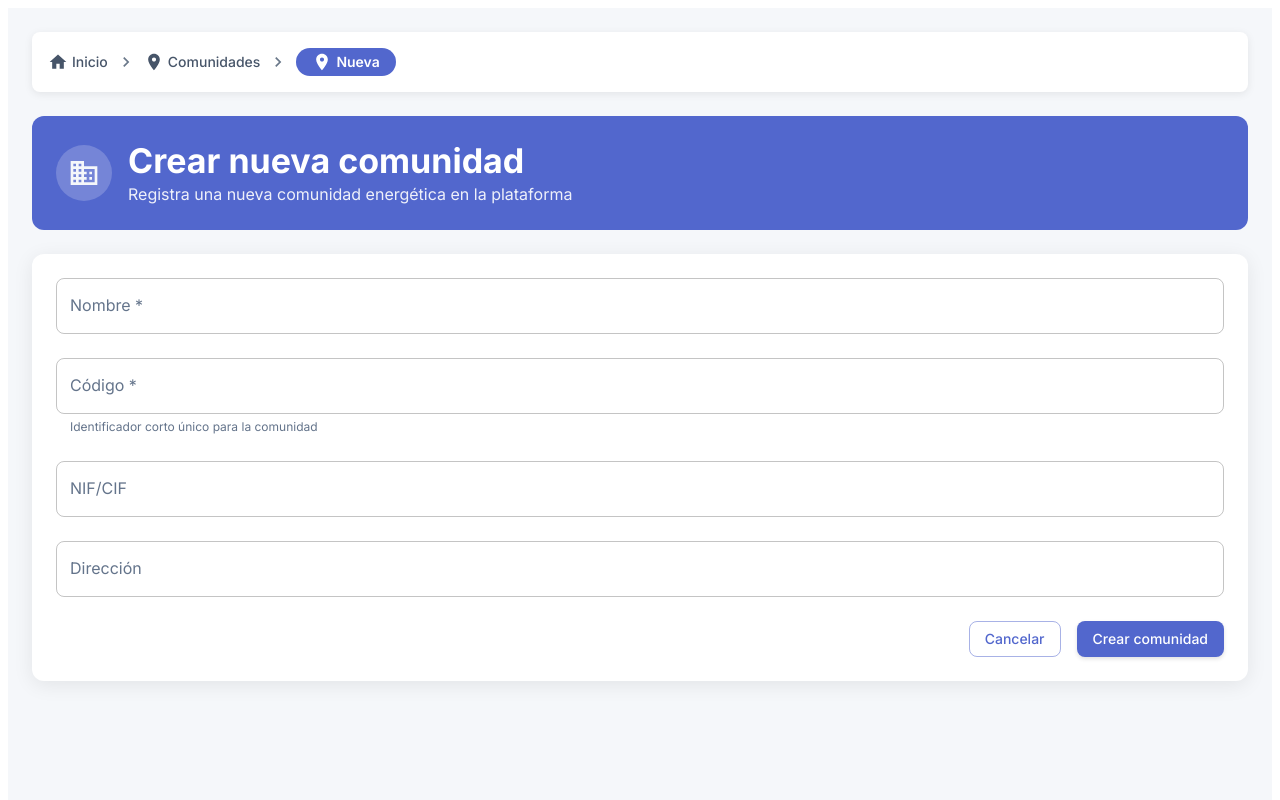
Test: CreateCommunityPage: a refused creation (#232) › UI-ERR-002 clears the API error once its input is edited, not when another input is
The image size is (1280, 800).
Type "Comunidad Norte" into the field labelled "Nombre *".
click(640, 306); type("Comunidad Norte")  # box [56,278,1224,334]
Type "NORTE" into the field labelled "Código *".
click(640, 386); type("NORTE")  # box [56,358,1224,414]
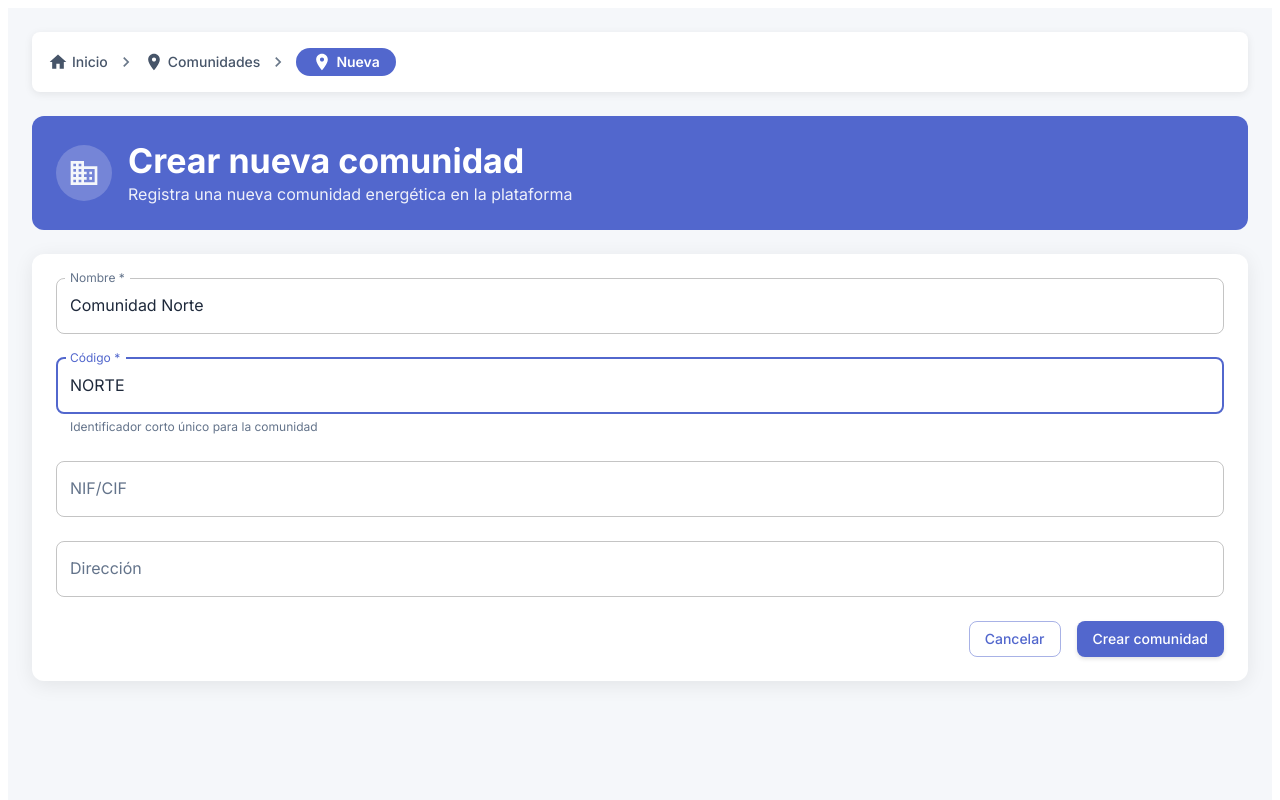
Type "G12345678" into the field labelled "NIF/CIF".
click(640, 489); type("G12345678")  # box [56,461,1224,517]
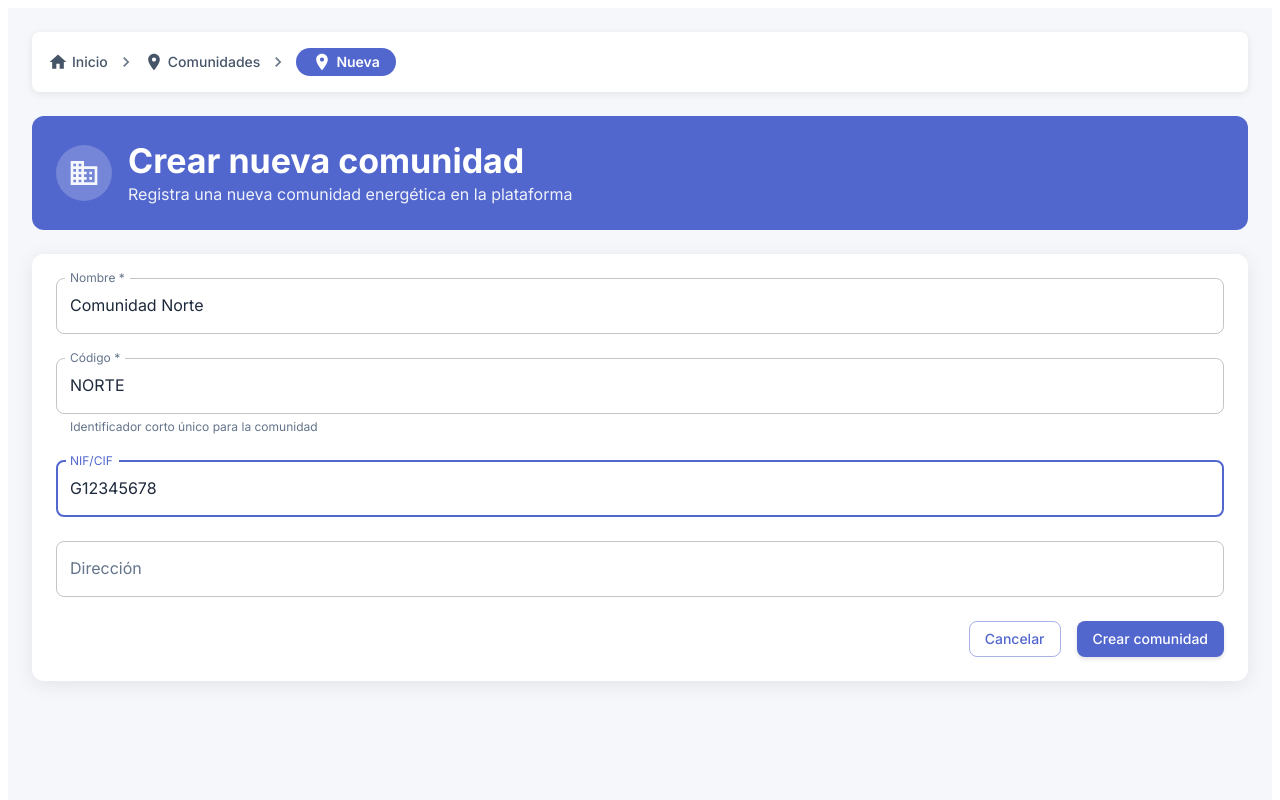
Type "Calle Mayor 1" into the field labelled "Dirección".
click(640, 569); type("Calle Mayor 1")  # box [56,541,1224,597]
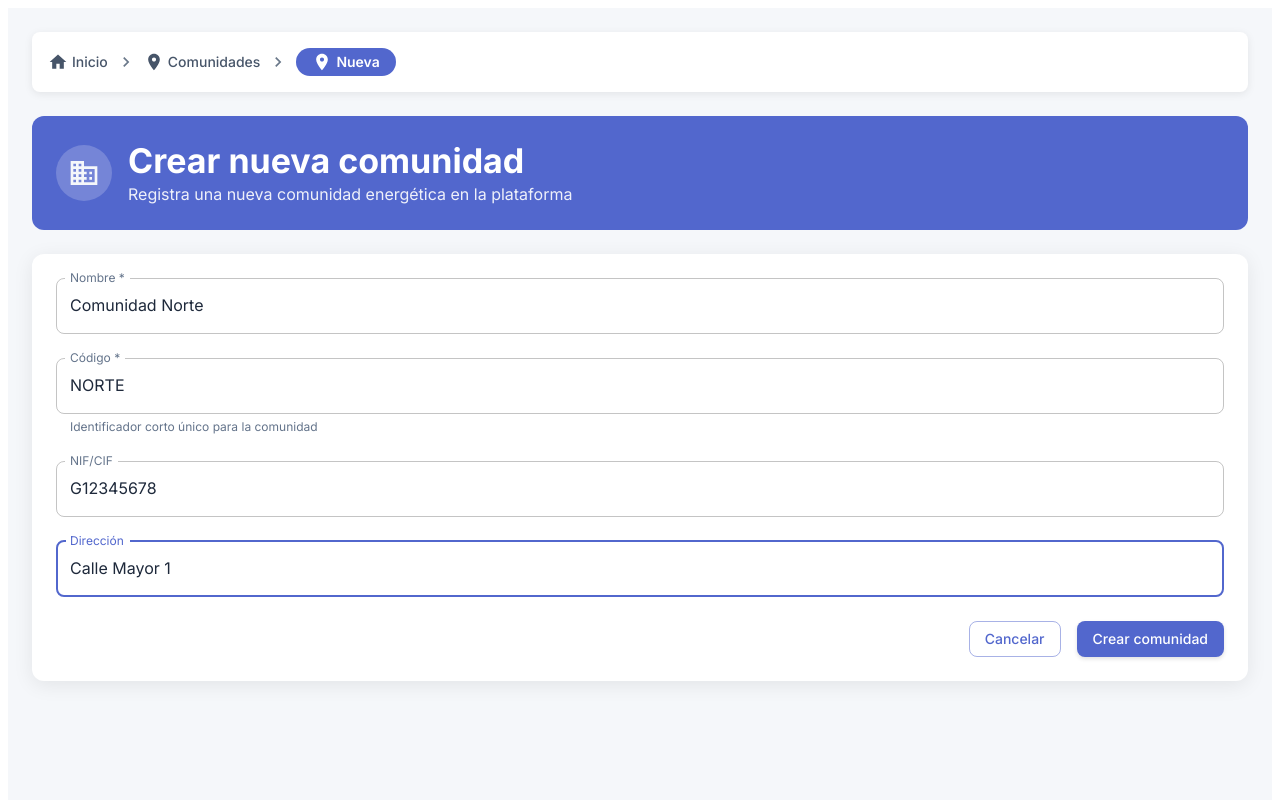
Click the button "Crear comunidad".
click(1150, 639)  # box [1076,621,1224,657]
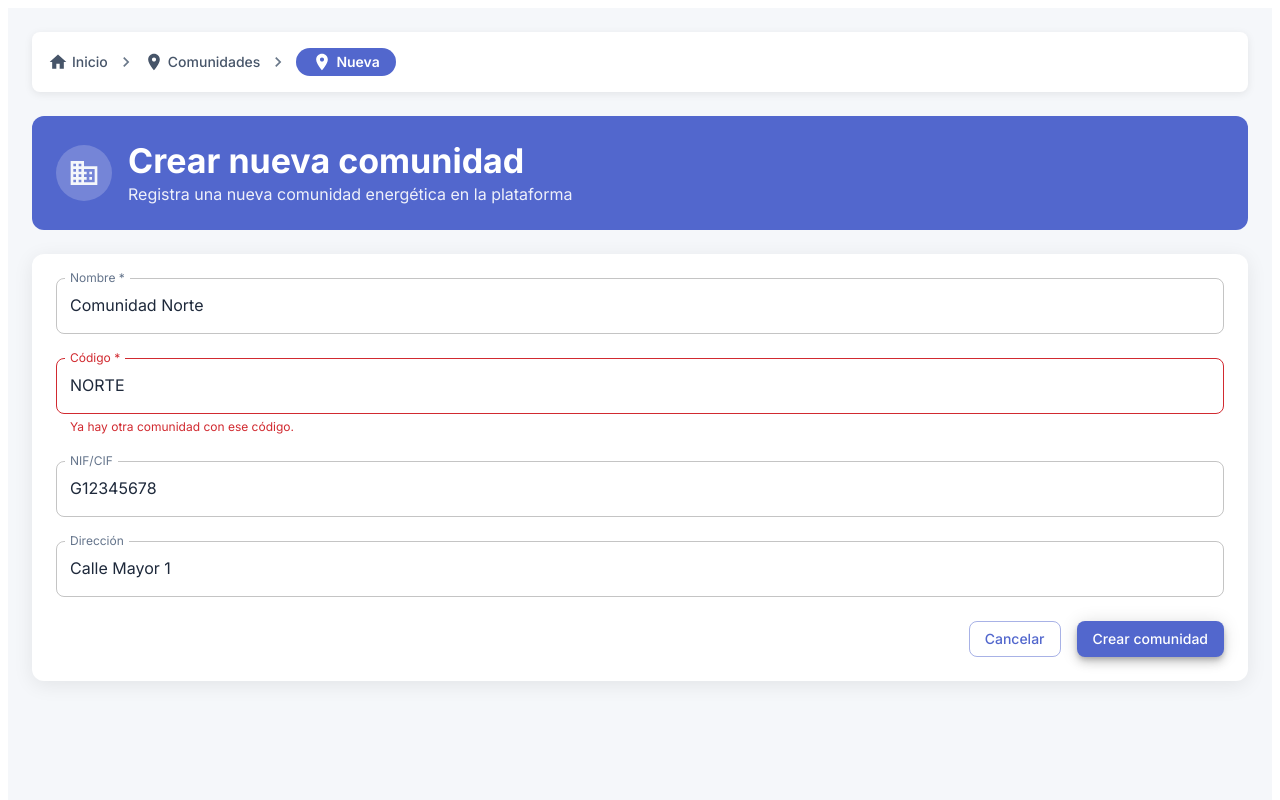
Type "9" into the field labelled "NIF/CIF".
click(640, 489); type("9")  # box [56,461,1224,517]
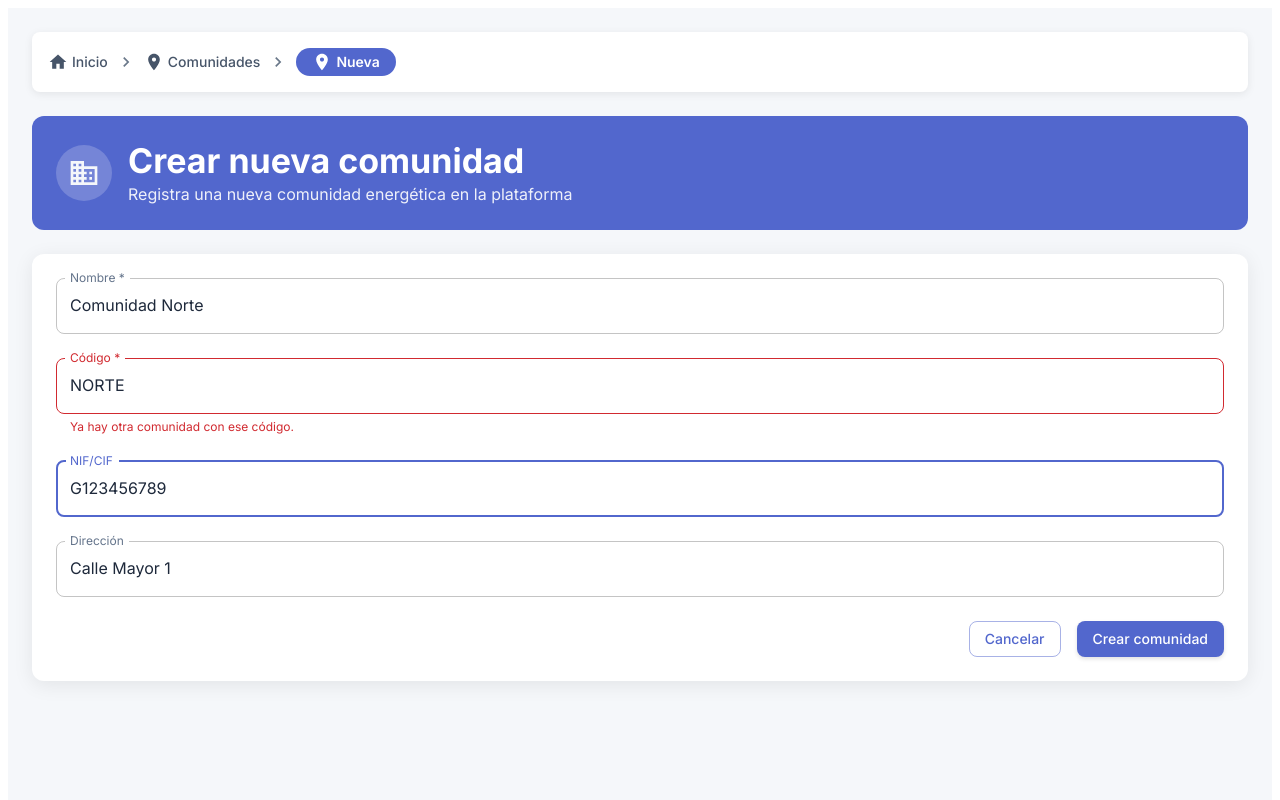
Type "2" into the field labelled "Código *".
click(640, 386); type("2")  # box [56,358,1224,414]
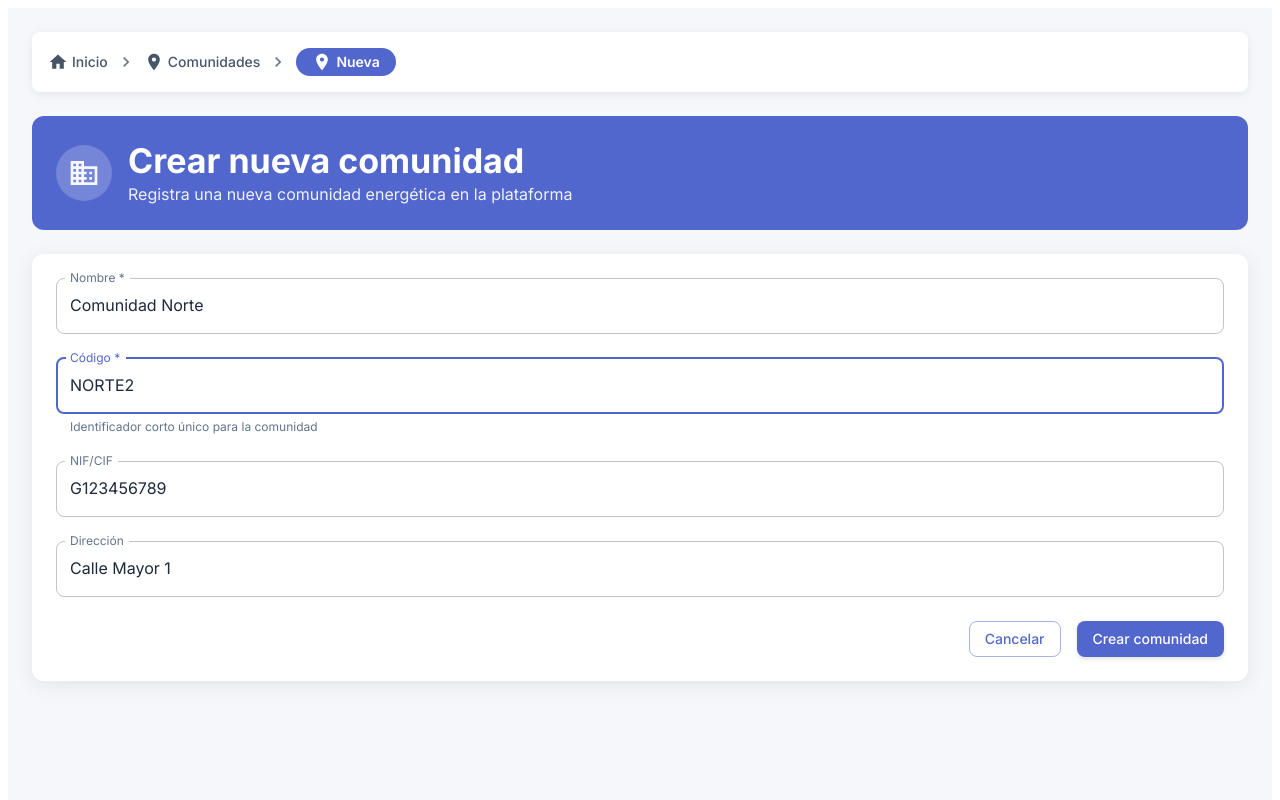
Expected: the field labelled "NIF/CIF" holds "G123456789", [56,461,1224,517]
Expected: the field labelled "Código *" holds "NORTE2", [56,358,1224,414]
